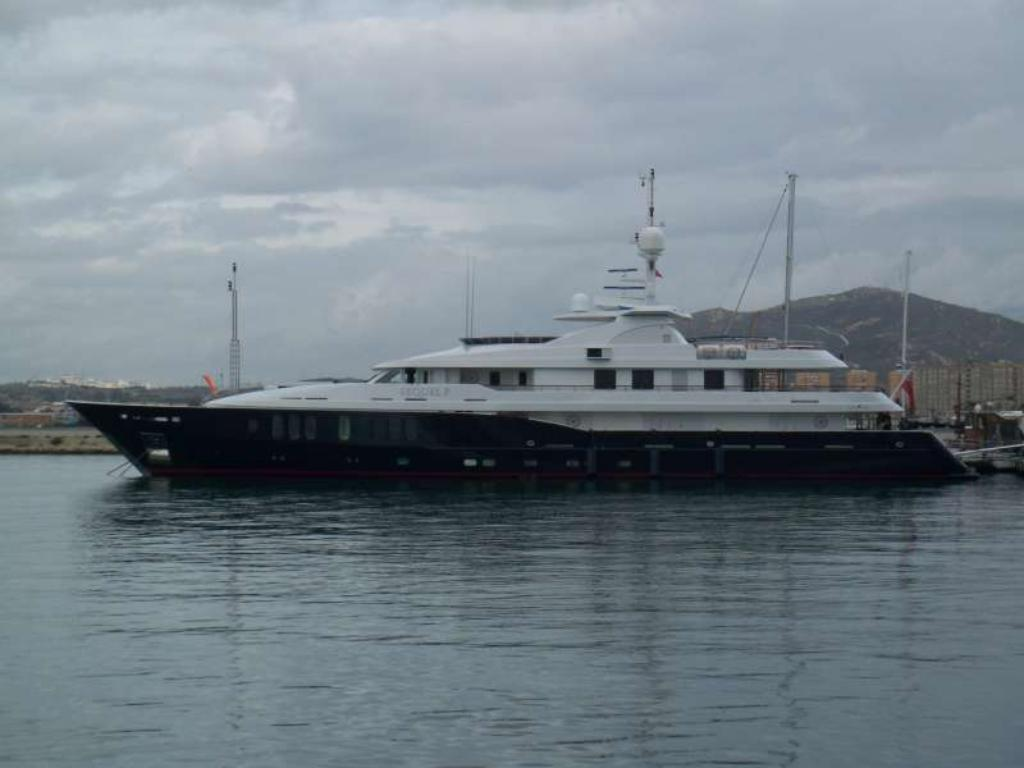PassengerShip: (54, 181, 978, 493)
